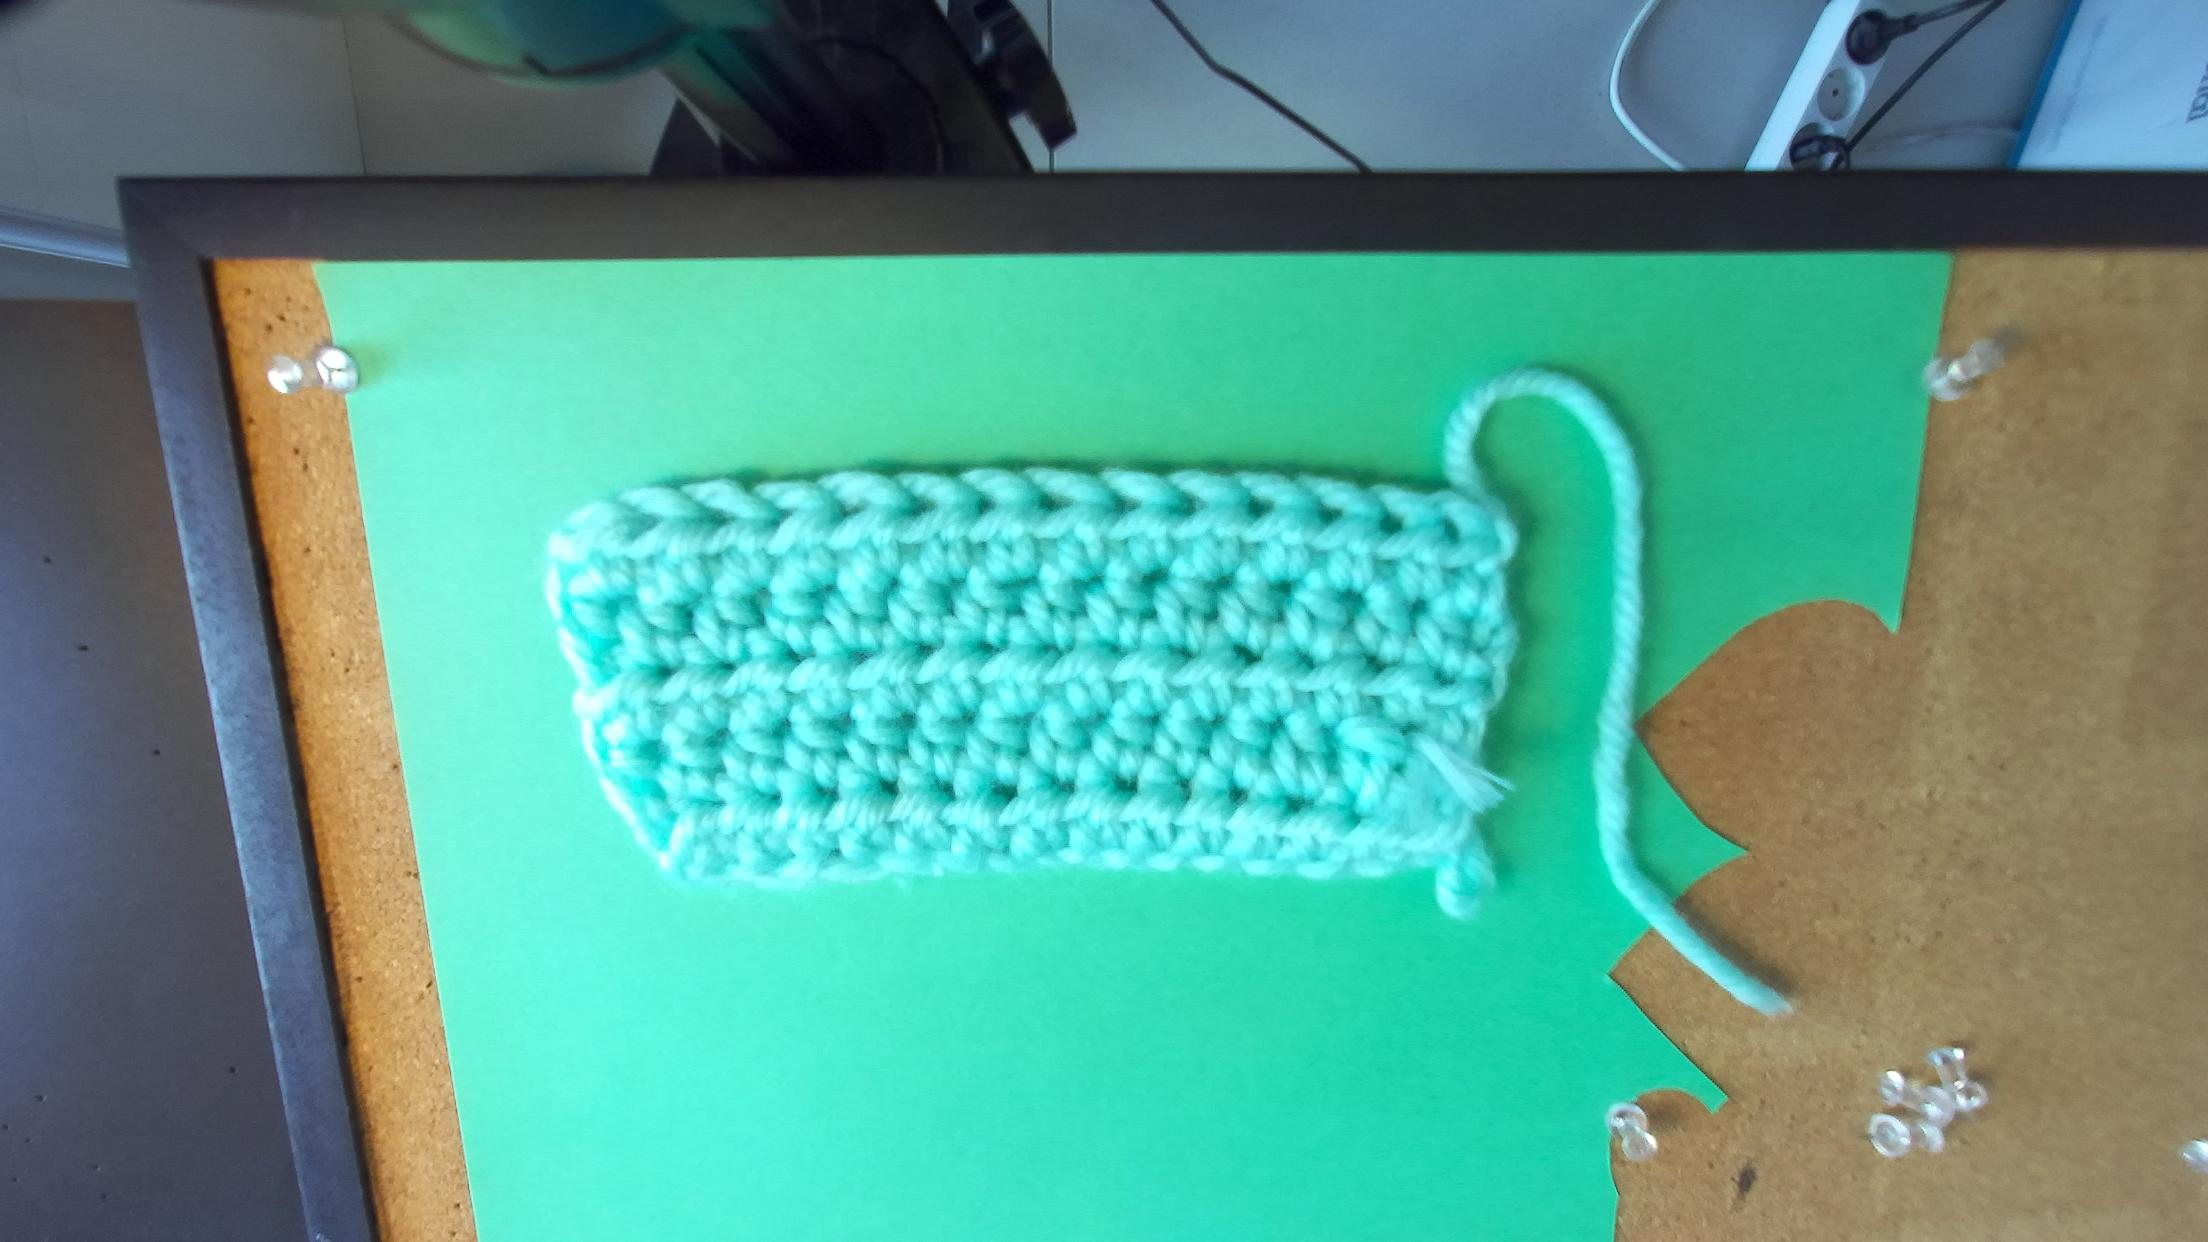hole: (622, 510, 670, 543), (696, 505, 743, 529), (1171, 491, 1212, 517), (1033, 490, 1075, 513), (904, 496, 940, 522), (767, 503, 805, 528), (1245, 493, 1280, 519), (834, 499, 873, 522), (1313, 500, 1347, 526), (1110, 493, 1145, 517), (1432, 517, 1462, 544), (1377, 510, 1404, 535), (972, 494, 1002, 517)
swatch: (538, 469, 1523, 892)
